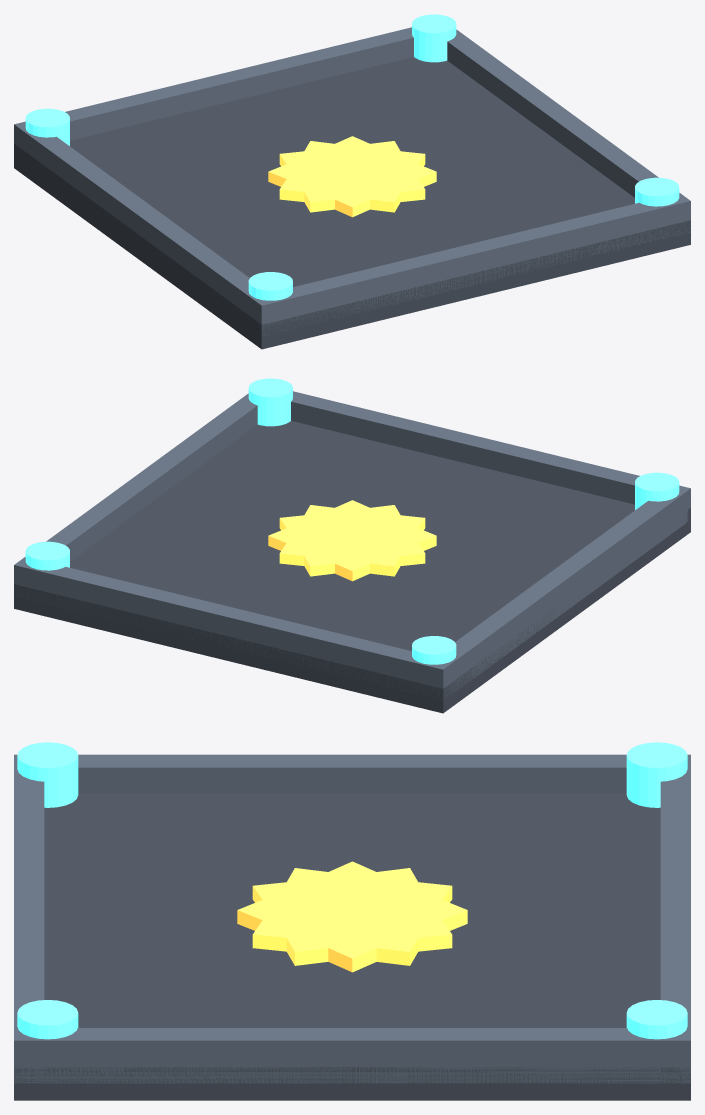
File: AXM-TERRAIN-TILE-001.glb
The picture shows the model from 3 angles, top to bottom: view 1: azimuth 30°, elevation 25°; view 2: azimuth 150°, elevation 25°; view 3: azimuth 270°, elevation 25°; orthographic projection. The views are drawn at different scales.
Visible parts, largest first — view 1: platform, edge_x__l00, edge_x__l01, center_plate, edge_y__l00, edge_y__l01, corner_node__g03, corner_node__g01, corner_node__g02, corner_node__g00; view 2: platform, edge_x__l01, edge_y__l00, edge_x__l00, center_plate, edge_y__l01, corner_node__g02, corner_node__g00, corner_node__g03, corner_node__g01; view 3: platform, edge_y__l01, edge_y__l00, center_plate, edge_x__l00, edge_x__l01, corner_node__g00, corner_node__g01, corner_node__g02, corner_node__g03.
Boxes of the visible parts, box(x1,y1,x2,y2) form: platform: box(14, 57, 690, 349); edge_x__l00: box(250, 193, 690, 336); edge_x__l01: box(14, 27, 413, 150); center_plate: box(268, 136, 436, 217); edge_y__l00: box(25, 132, 252, 316); edge_y__l01: box(447, 29, 658, 197); corner_node__g03: box(412, 14, 456, 62); corner_node__g01: box(25, 108, 69, 145); corner_node__g02: box(635, 177, 679, 206); corner_node__g00: box(248, 272, 292, 300); platform: box(14, 421, 690, 713); edge_x__l01: box(14, 557, 454, 699); edge_y__l00: box(452, 496, 679, 691); edge_x__l00: box(291, 391, 690, 527); center_plate: box(268, 500, 436, 581); edge_y__l01: box(46, 393, 257, 561); corner_node__g02: box(248, 378, 292, 426); corner_node__g00: box(635, 472, 679, 509); corner_node__g03: box(25, 541, 69, 570); corner_node__g01: box(412, 636, 456, 664); platform: box(14, 793, 690, 1100); edge_y__l01: box(44, 1028, 660, 1083); edge_y__l00: box(78, 754, 626, 793); center_plate: box(237, 861, 467, 972); edge_x__l00: box(14, 754, 44, 1083); edge_x__l01: box(660, 754, 690, 1083); corner_node__g00: box(17, 742, 78, 807); corner_node__g01: box(626, 742, 687, 807); corner_node__g02: box(17, 1000, 78, 1039); corner_node__g03: box(626, 1000, 687, 1039).
Size of the model in its own units: 4 by 0.48 by 4.
